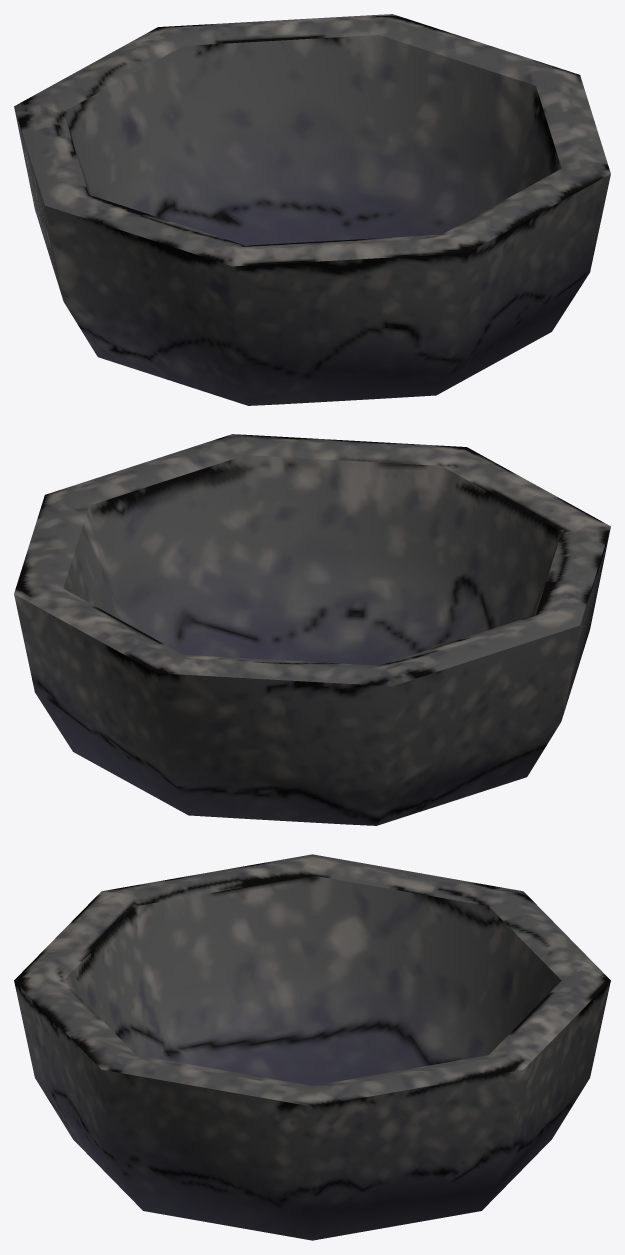
Rendered from Mortar.fbx.
3 renders of one model, top to bottom at view 1: azimuth 30°, elevation 25°; view 2: azimuth 150°, elevation 25°; view 3: azimuth 270°, elevation 25°, orthographic. The views are drawn at different scales.
Visible parts, largest first — view 1: Mortar; view 2: Mortar; view 3: Mortar.
Part boxes in pixels (left/top/right/bottom): Mortar: left=14, top=14, right=610, bottom=405; Mortar: left=14, top=434, right=610, bottom=825; Mortar: left=14, top=854, right=610, bottom=1240.
Size of the model in its own units: 115 by 115 by 46.13.
1 material, 1 textured.
